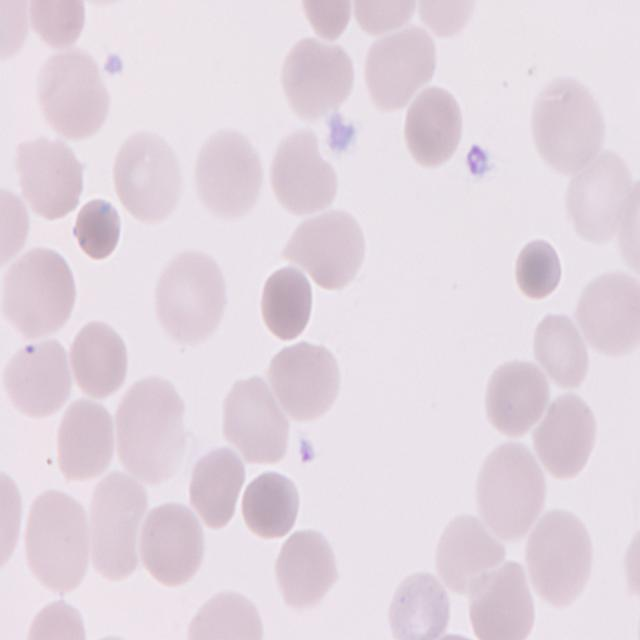RBC: (527, 76, 612, 176), (36, 41, 116, 144), (151, 248, 227, 352), (522, 502, 596, 608), (0, 240, 77, 339), (24, 486, 92, 598), (266, 120, 344, 217), (476, 440, 546, 542), (112, 127, 184, 226), (280, 32, 357, 124), (193, 125, 266, 221), (362, 20, 440, 109), (292, 202, 367, 294), (267, 336, 343, 424), (13, 135, 88, 223), (222, 370, 290, 466), (572, 263, 640, 359), (271, 524, 340, 618), (138, 502, 207, 590), (536, 386, 600, 480), (482, 354, 550, 442), (400, 79, 465, 171), (2, 336, 70, 418), (58, 393, 120, 482), (184, 441, 244, 528), (529, 308, 591, 392), (66, 319, 130, 400), (386, 569, 452, 640), (186, 588, 270, 638), (21, 599, 91, 640), (414, 0, 486, 36), (0, 186, 31, 266)
Spherocyte: (240, 467, 303, 541), (260, 262, 316, 344), (72, 194, 124, 262), (512, 236, 567, 300)
